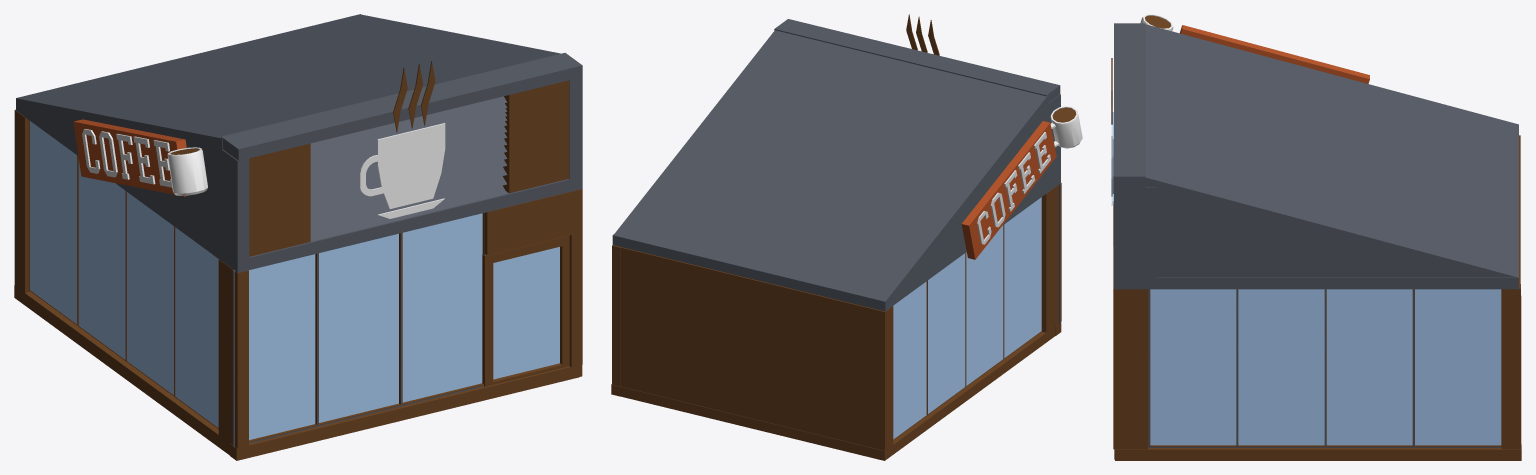
Rendered from City_coffee.fbx.
3 renders of one model, left to right at view 1: azimuth 30°, elevation 25°; view 2: azimuth 150°, elevation 25°; view 3: azimuth 270°, elevation 25°, orthographic. The views are drawn at different scales.
Visible parts, largest first — view 1: City_coffee; view 2: City_coffee; view 3: City_coffee.
Part boxes in pixels (x1=…): City_coffee: x1=14, y1=14, x2=582, y2=460; City_coffee: x1=611, y1=14, x2=1082, y2=460; City_coffee: x1=1111, y1=14, x2=1521, y2=460.
Size of the model in its own units: 3300 by 3300 by 2865.
